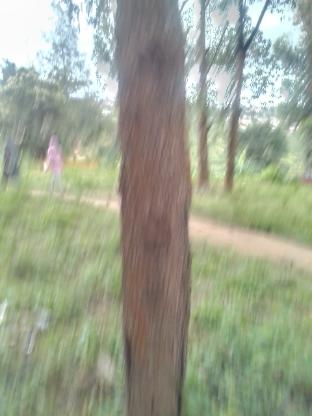tree: (111, 0, 198, 416)
